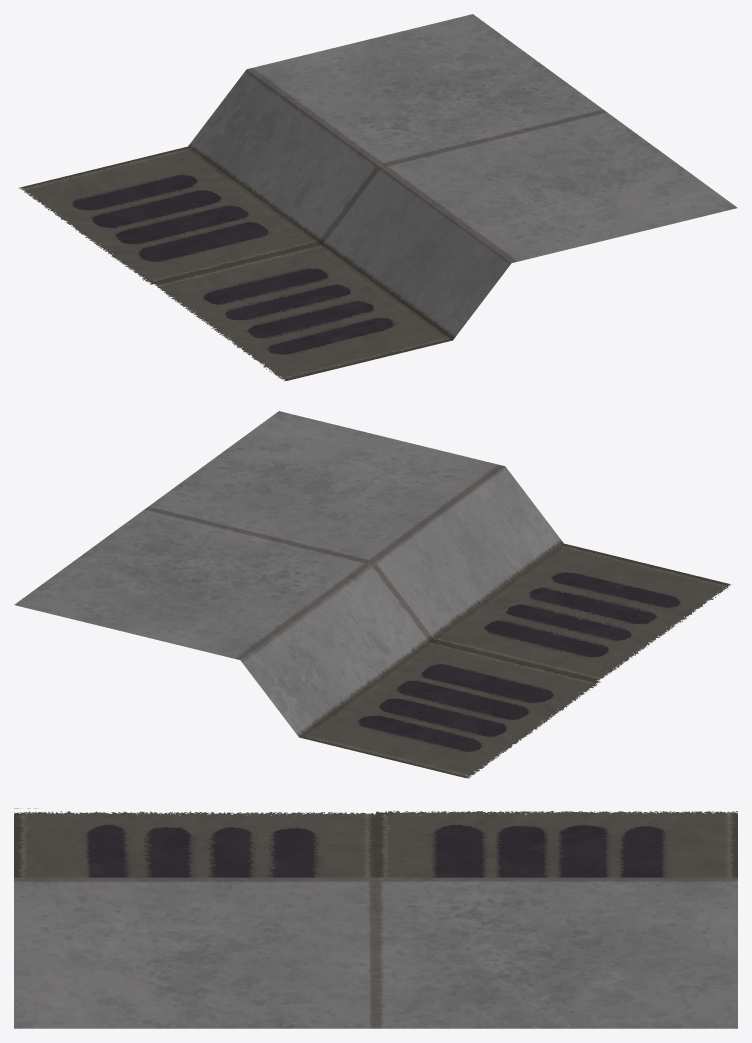
Rendered from sidewalk.fbx.
The picture shows the model from 3 angles, top to bottom: view 1: azimuth 30°, elevation 25°; view 2: azimuth 150°, elevation 25°; view 3: azimuth 270°, elevation 25°; orthographic projection. The views are drawn at different scales.
Visible parts, largest first — view 1: Plane; view 2: Plane; view 3: Plane.
Part boxes in pixels (<box>): Plane: <box>19,14,737,381</box>; Plane: <box>14,411,737,778</box>; Plane: <box>14,808,737,1028</box>.
Size of the model in its own units: 2 by 0.262 by 2.
